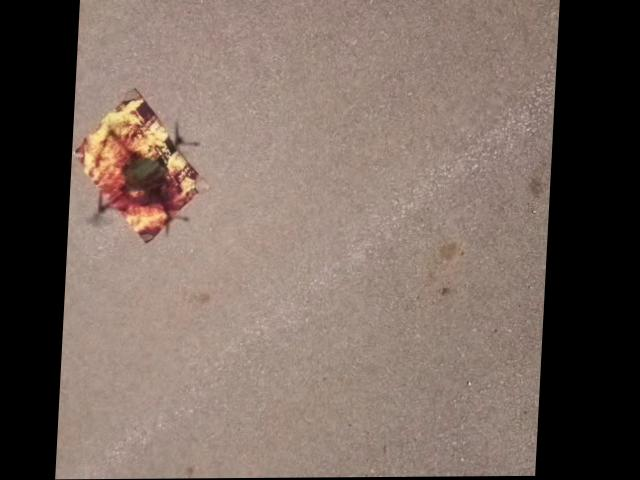fire-poster: (71, 86, 210, 245)
